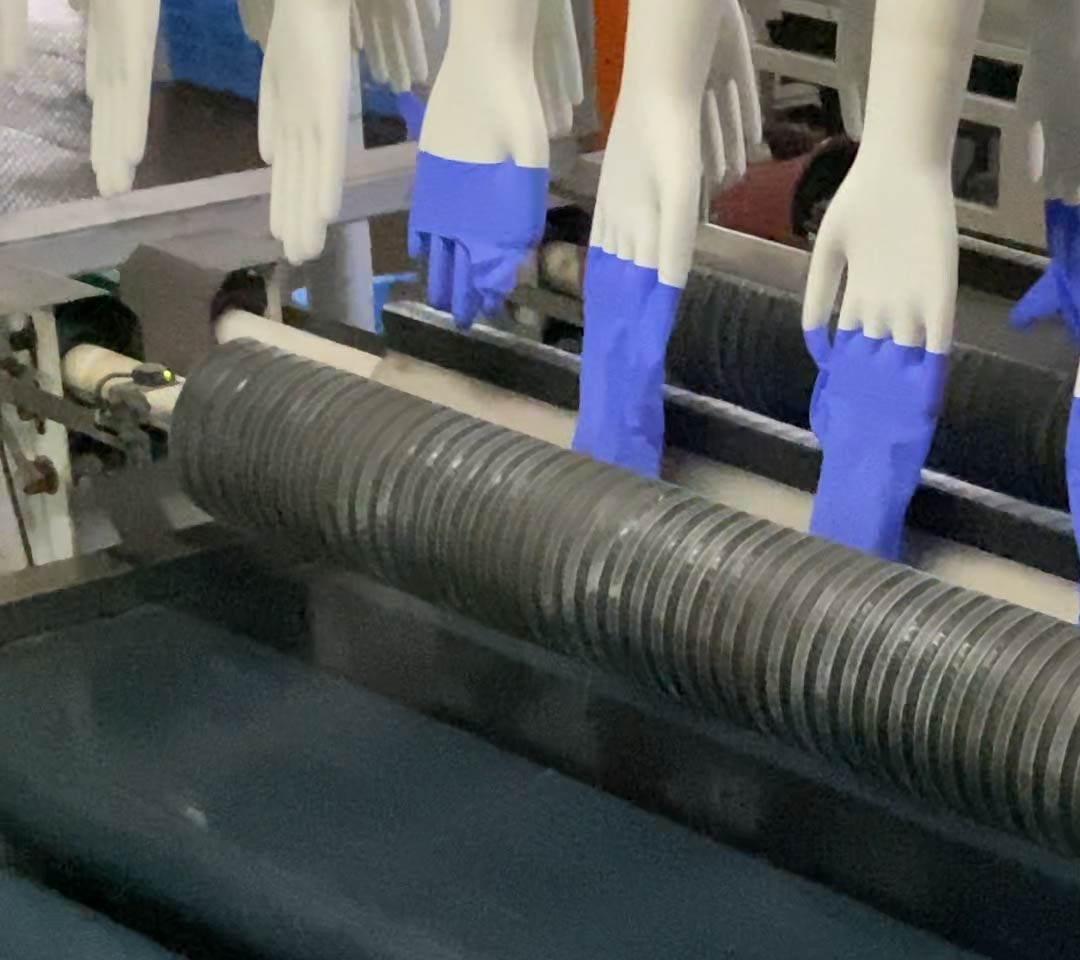glove: (794, 322, 944, 564), (566, 244, 681, 480), (404, 147, 547, 325)
